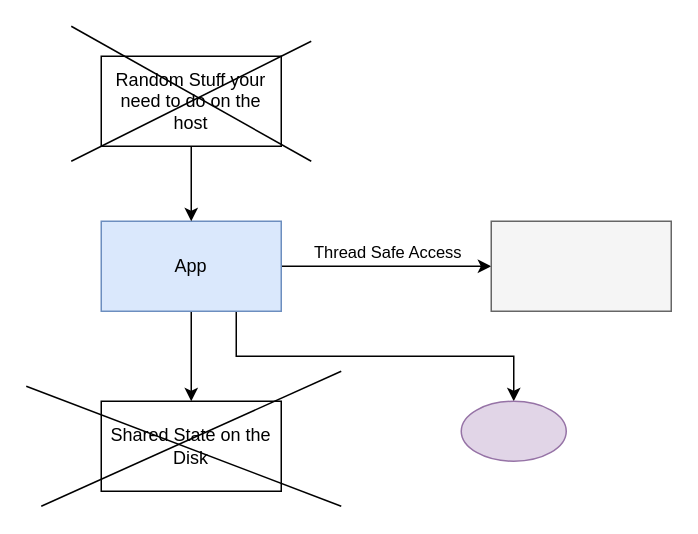
The diagram is 698 pixels wide and 534 high, and some of its shapes have lost their labels. Each missing label, with the box of its shape:
Database (contains all dynamic States): (490, 220, 671, 311)
S3: (460, 400, 566, 461)
